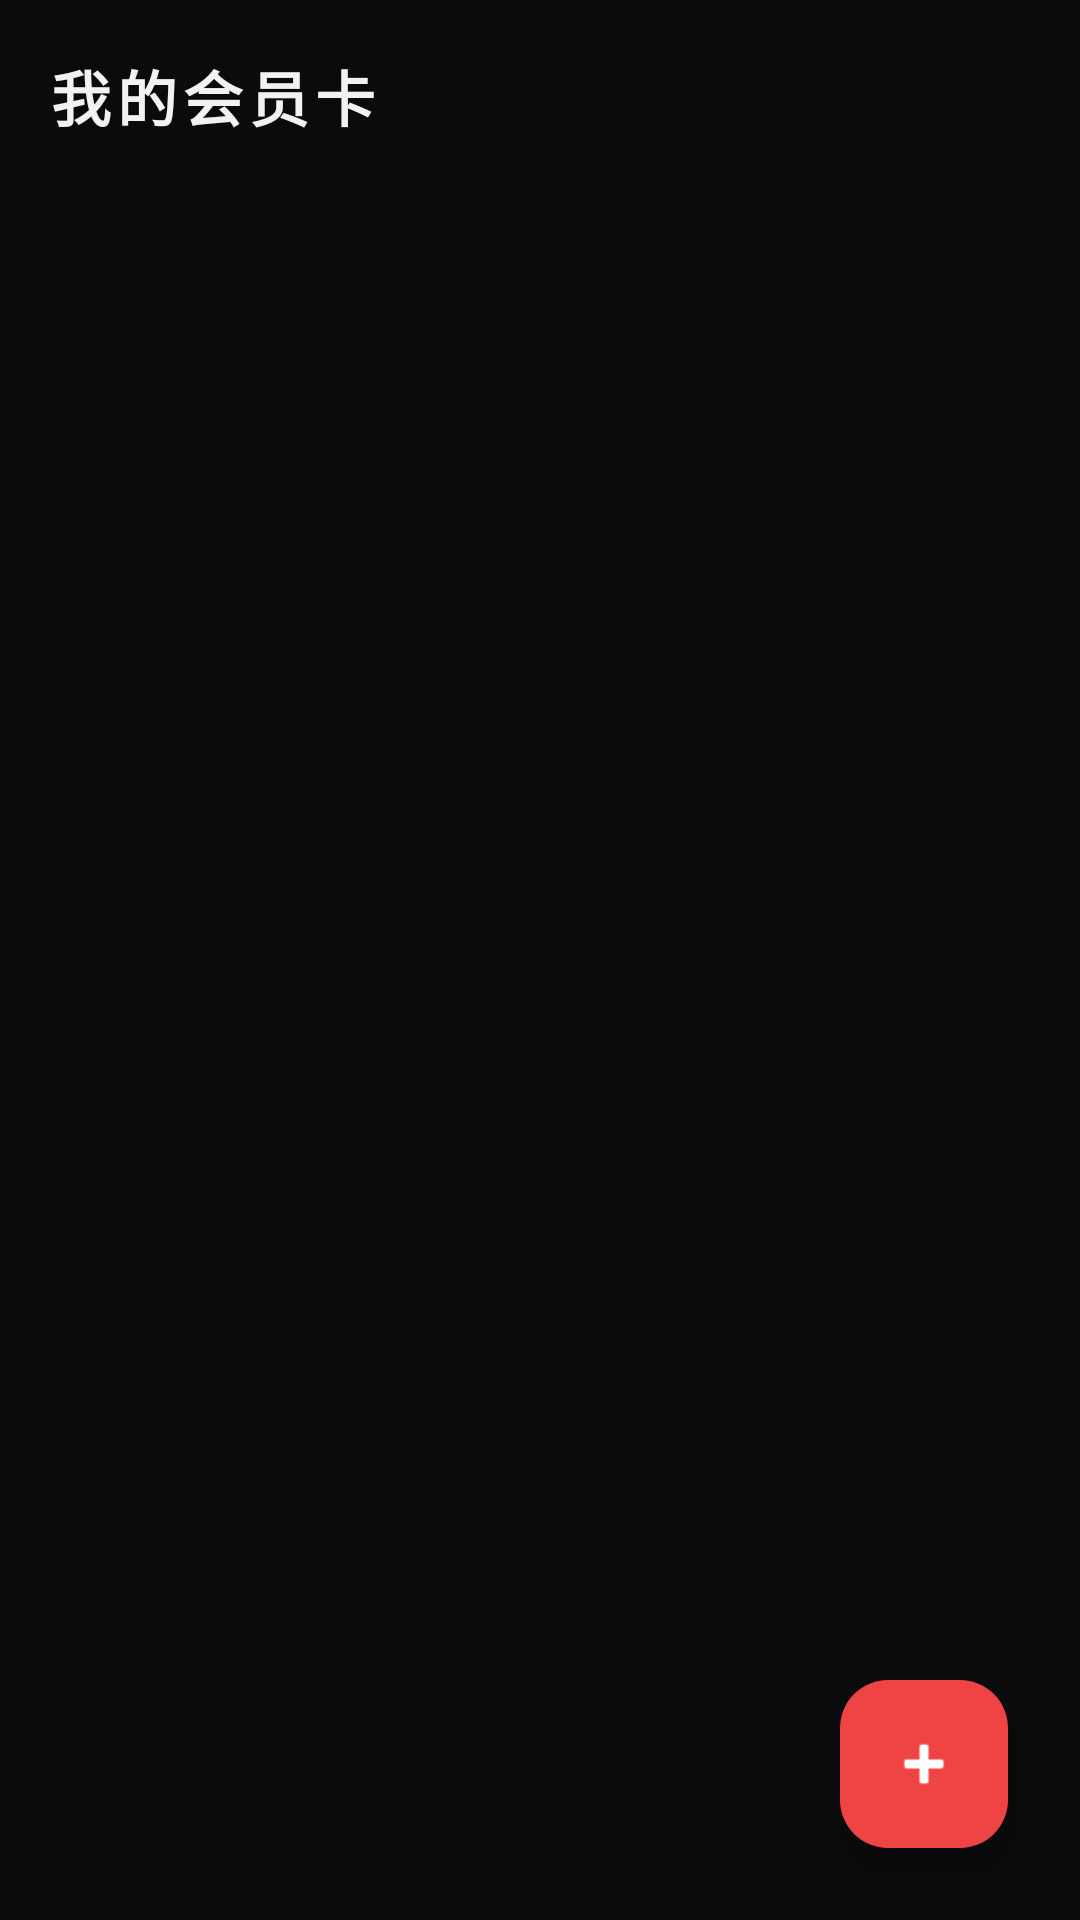

Icons on this 1080w x 1920h Android screen, each with its box as (x1, y1, x2, y2):
添加会员卡: (840, 1680, 1008, 1848)
